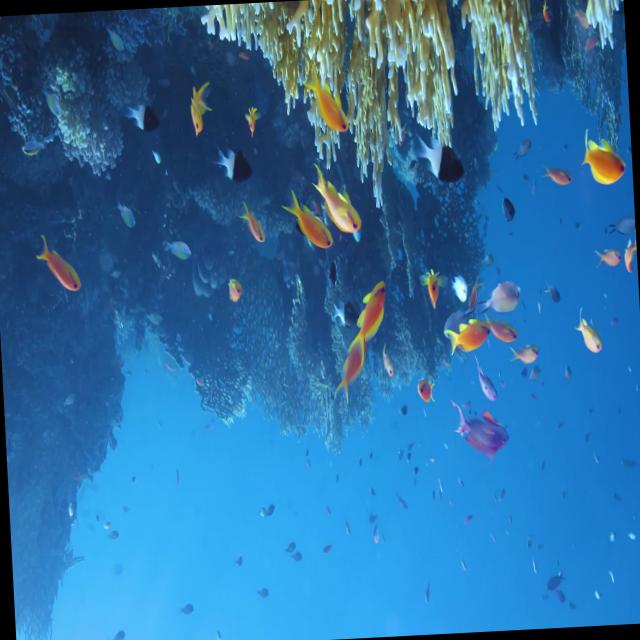fish: (442, 391, 516, 474), (300, 52, 359, 144), (574, 112, 630, 196), (404, 119, 463, 198), (282, 183, 339, 260), (312, 160, 368, 236), (33, 235, 84, 303), (348, 281, 390, 346), (326, 341, 369, 404), (568, 299, 605, 370), (480, 268, 530, 318), (442, 314, 496, 359), (125, 90, 165, 148), (208, 138, 251, 190), (187, 78, 218, 140), (486, 314, 533, 354), (238, 99, 270, 153), (238, 195, 268, 252), (471, 357, 506, 404), (528, 158, 579, 190), (221, 268, 256, 314), (505, 336, 544, 376), (418, 258, 443, 316), (160, 235, 196, 275), (590, 238, 624, 278), (412, 369, 440, 411), (114, 195, 140, 240), (540, 560, 568, 598), (618, 234, 638, 276), (500, 196, 520, 234)
